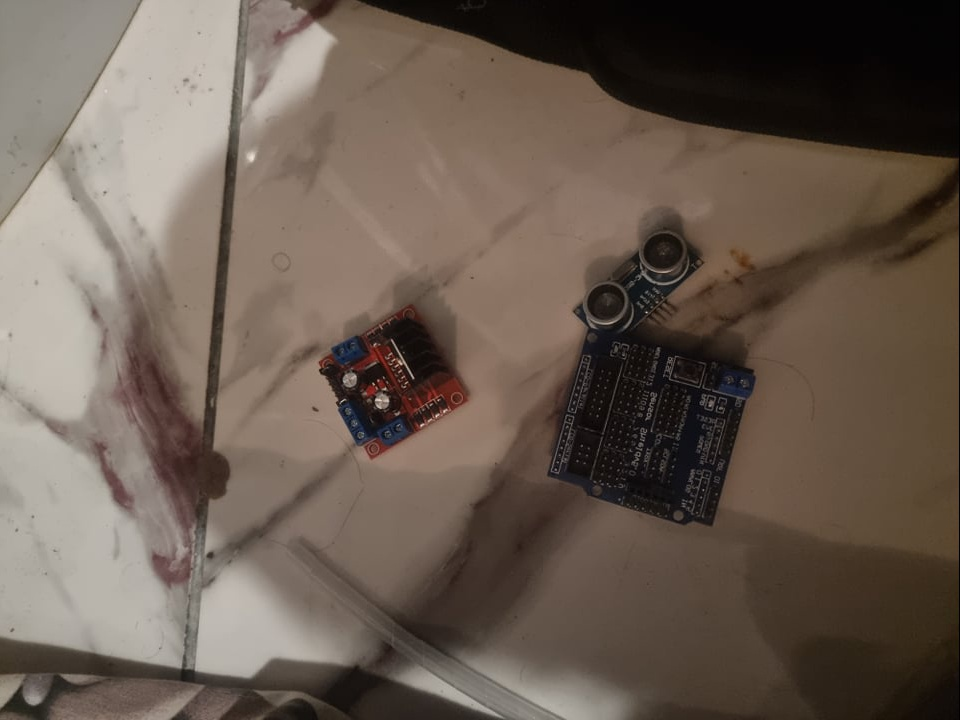5V EXPANSION: (547, 333, 758, 530)
MOTOR: (320, 300, 476, 458)
SENSOR: (569, 227, 703, 327)
